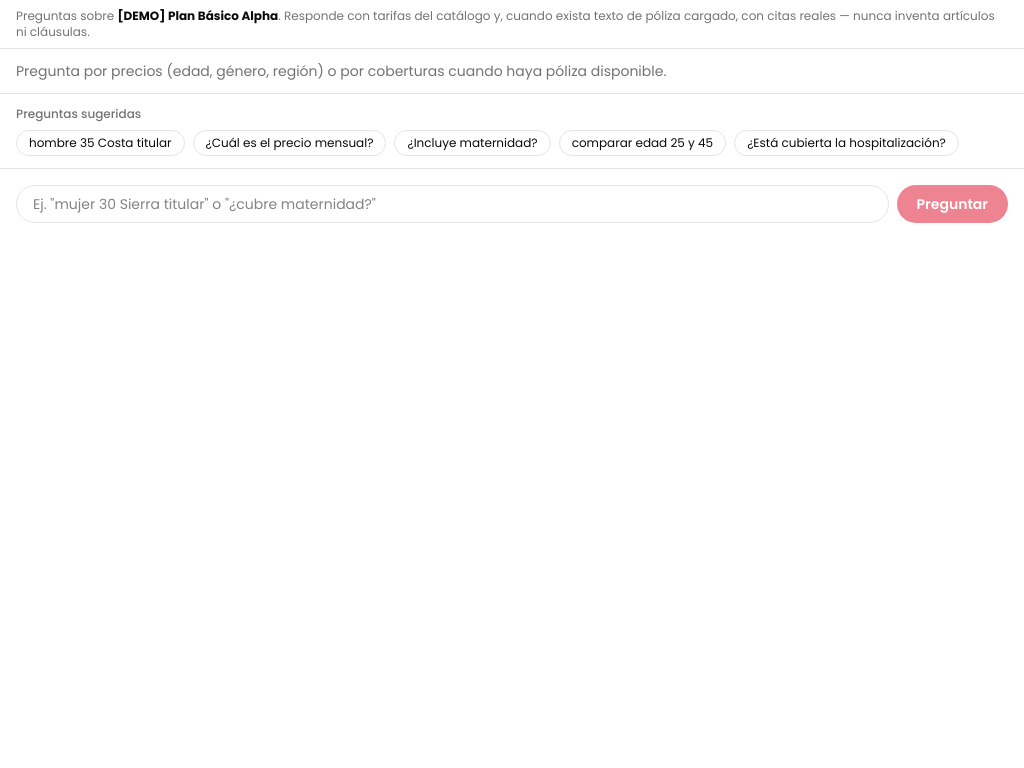
CoverageAssistant › shows suggested questions and submits to API
The image size is (1024, 768).
Expected: the text "tarifas del catálogo y, cuando exista texto de póliza" is shown, [16,7,995,40]
Click the button "hombre 35 Costa titular" at (100, 143), box [16,130,185,156]
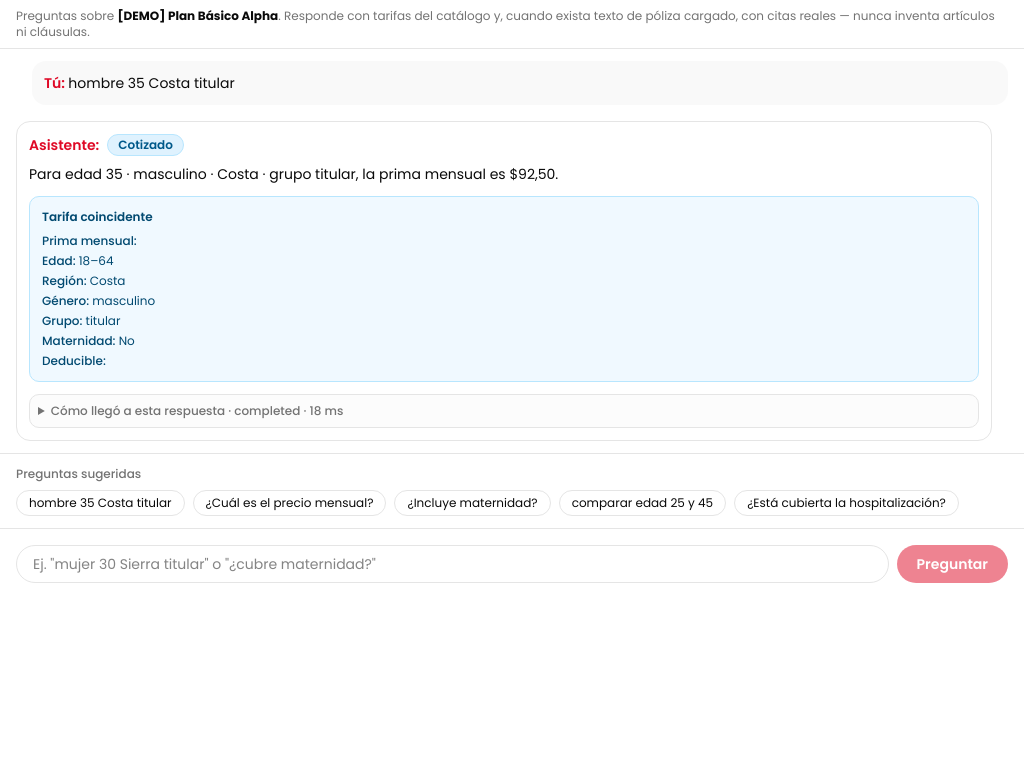
Expected: the text "prima mensual es $92,50" is shown, [29,164,558,184]
Expected: the text "Tarifa coincidente" is shown, [42,208,153,225]
Expected: the heading "Cómo llegó a esta respuesta · completed · 18 ms" is shown, [51,402,343,419]
